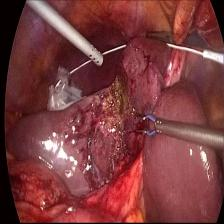Bipolar: (131, 108, 166, 142)
Grasper: (142, 27, 176, 42)
Irrigator: (83, 37, 104, 70)
Specimen Bag: (46, 57, 83, 117)
